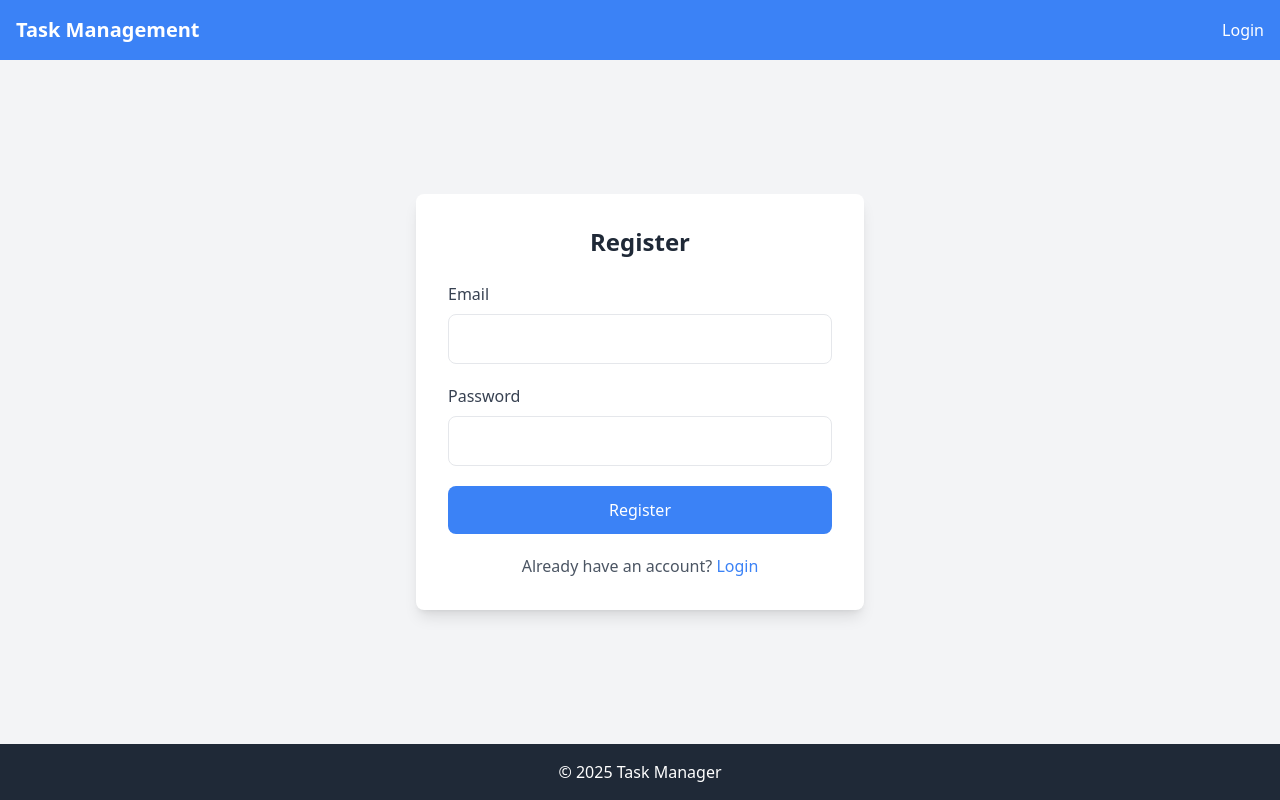
Scenario: Register page › shows error when email duplicate
The width and height of the screenshot is (1280, 800).
Type "dup@example.com" into the field labelled "Email".
click(640, 339); type("dup@example.com")  # box [448, 314, 832, 364]
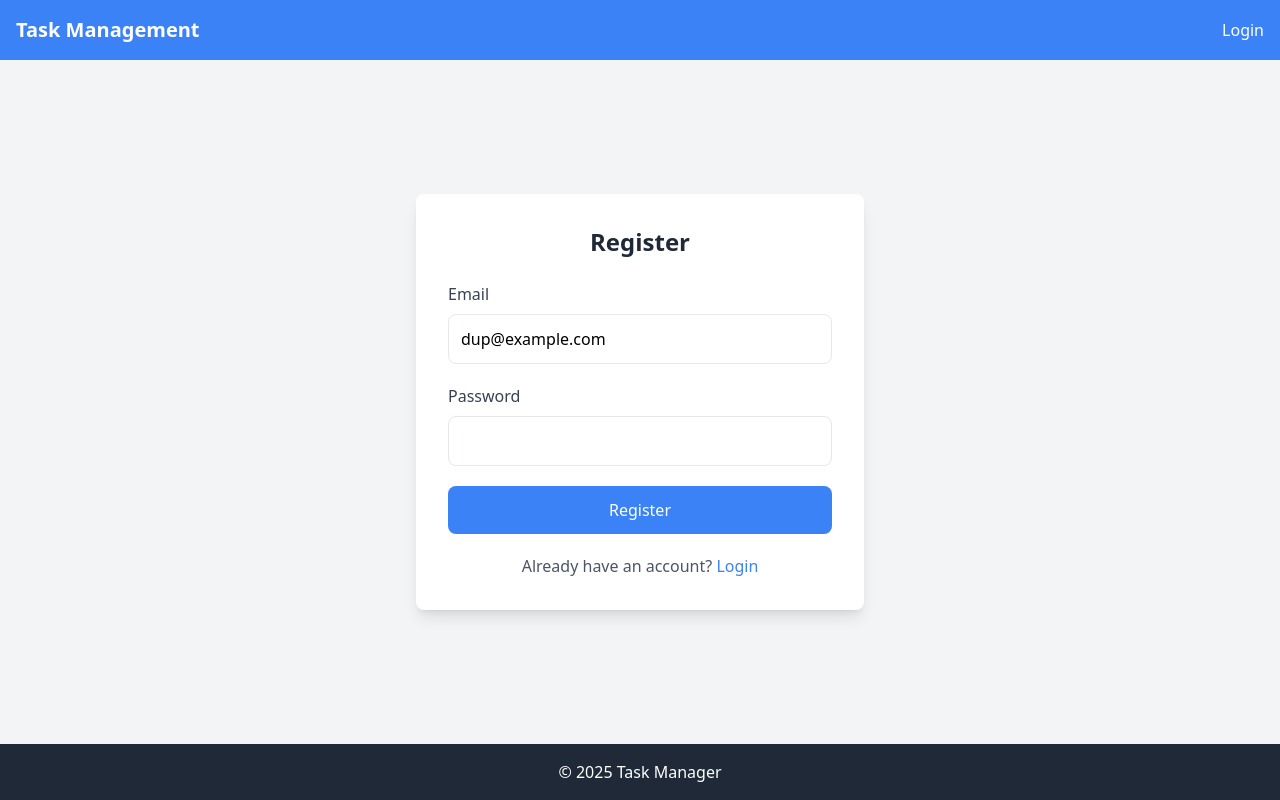
Type "password123" into the password field labelled "Password".
click(640, 441); type("password123")  # box [448, 416, 832, 466]
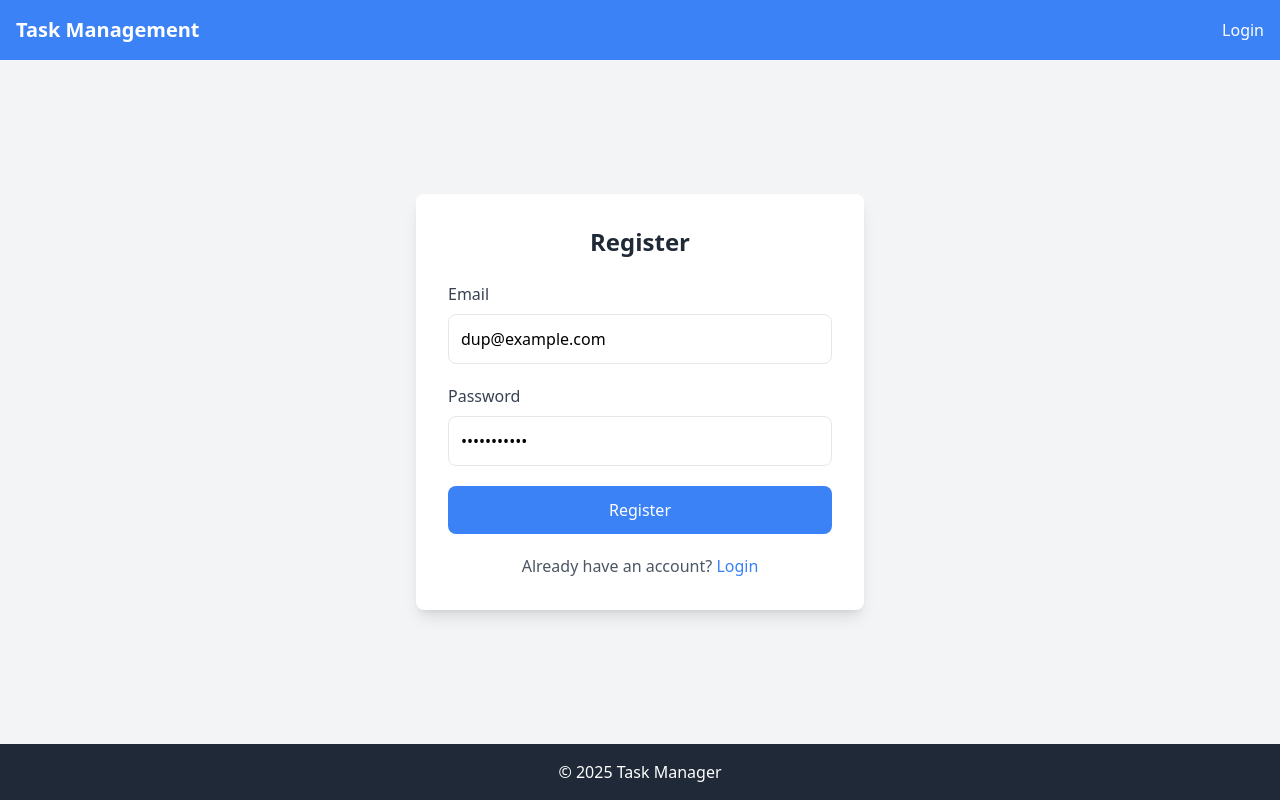
Click the button "Register".
click(640, 510)  # box [448, 486, 832, 534]
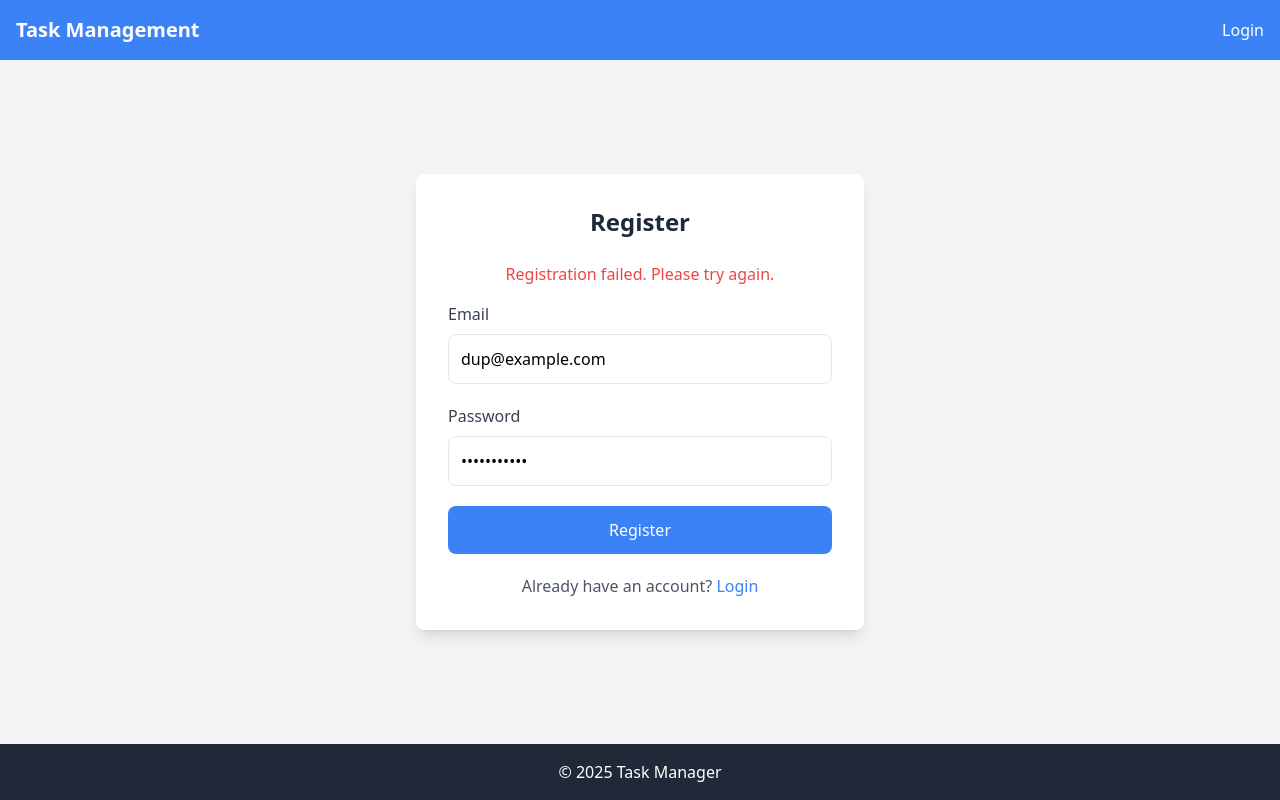
Now the text "Registration failed. Please try again." is shown, box [506, 263, 774, 285]
